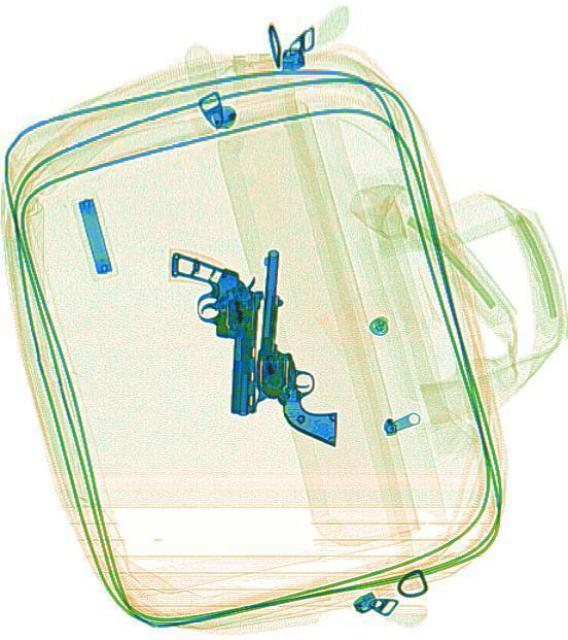Gun: (243, 246, 351, 444), (165, 248, 263, 414)
